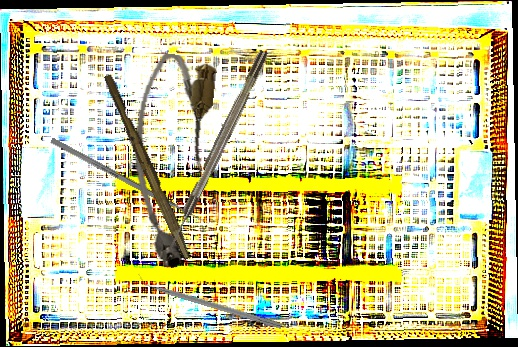Cannula: (119, 50, 219, 271)
Chopper: (135, 271, 285, 329)
Hook Surgical: (165, 49, 271, 249)
Pusher: (50, 137, 210, 227)
Scalpel Handle: (99, 73, 197, 261)
